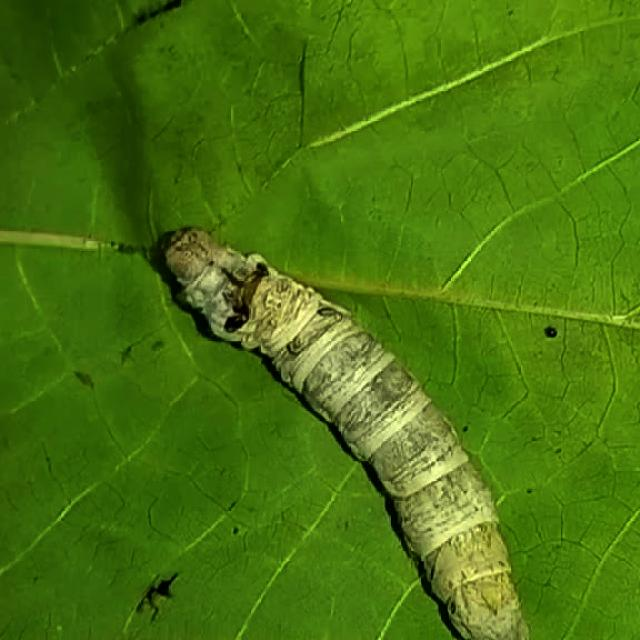Grasserie: (149, 217, 532, 640)
